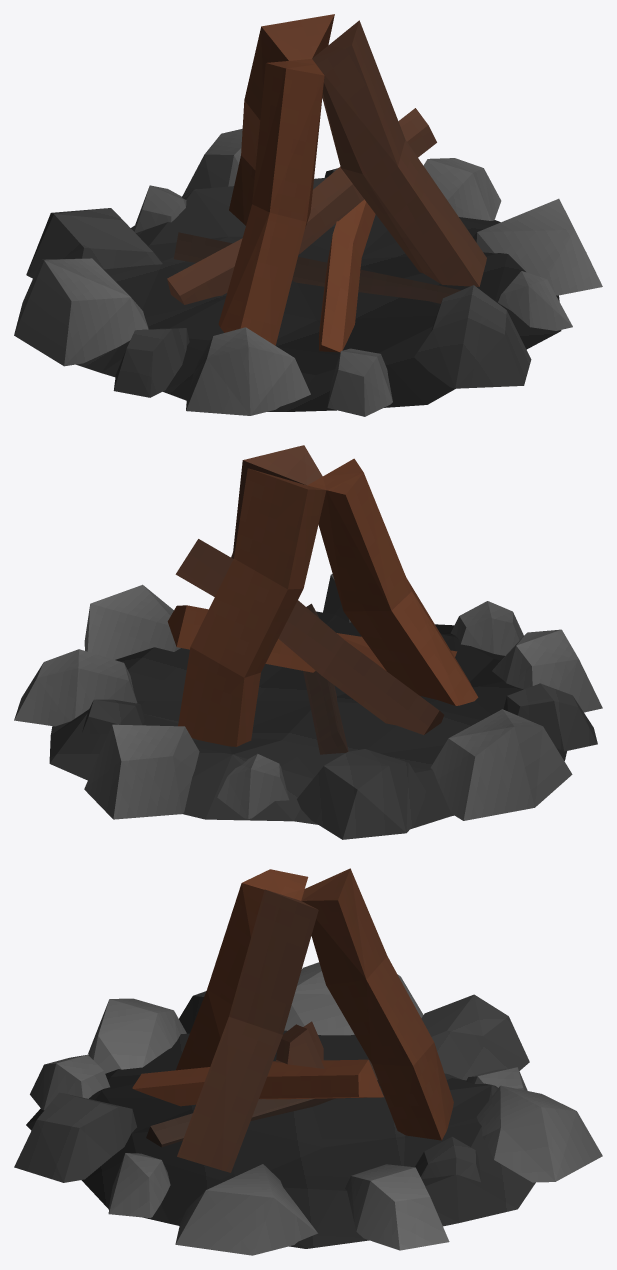
The model's file is fogueira.glb.
The picture shows the model from 3 angles, top to bottom: view 1: azimuth 30°, elevation 25°; view 2: azimuth 150°, elevation 25°; view 3: azimuth 270°, elevation 25°; orthographic projection.
Parts seen in each view (by area): view 1: CampfireASmall; view 2: CampfireASmall; view 3: CampfireASmall.
Boxes of the visible parts, left/top/right/bottom form: CampfireASmall: left=14, top=14, right=602, bottom=416; CampfireASmall: left=14, top=445, right=602, bottom=839; CampfireASmall: left=14, top=868, right=602, bottom=1255.
Bounding box in the file's own units: 0.9915 × 0.48 × 0.9953.
1 material, 1 textured.
